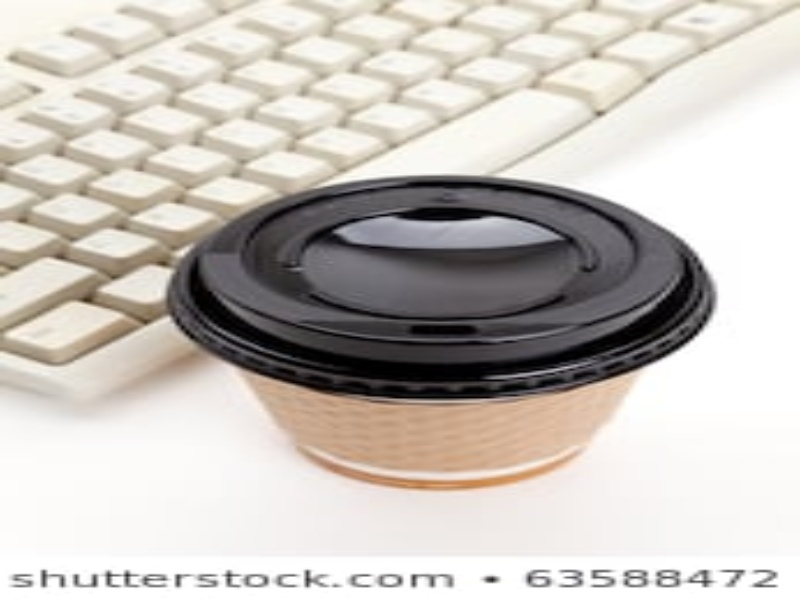coffee-lid: (162, 172, 718, 407)
